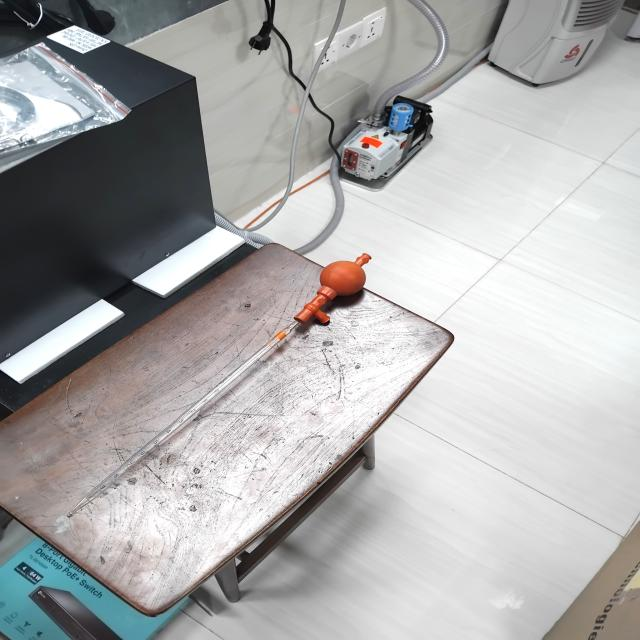Volumetric_Pipet: (17, 227, 407, 555)
